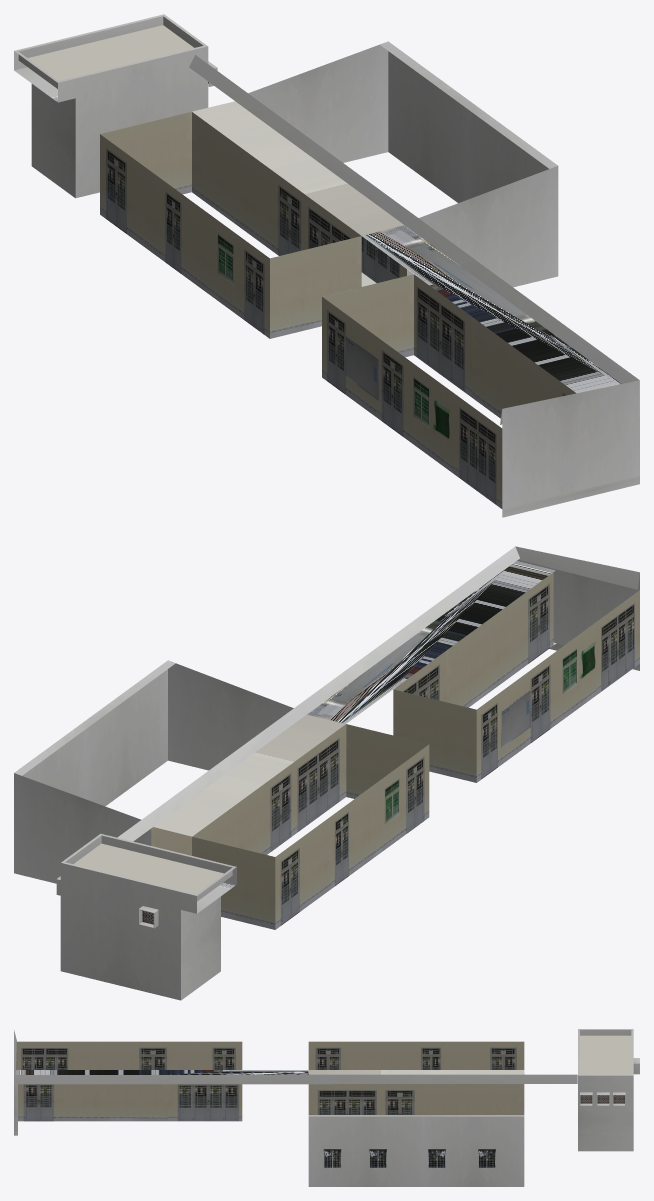
Rendered from part-polysurface455_mat_cua_van_phong_doan_0.glb.
The picture shows the model from 3 angles, top to bottom: view 1: azimuth 30°, elevation 25°; view 2: azimuth 150°, elevation 25°; view 3: azimuth 270°, elevation 25°; orthographic projection. The views are drawn at different scales.
Parts seen in each view (by area): view 1: polySurface455; view 2: polySurface455; view 3: polySurface455.
Boxes of the visible parts, box(x1,y1,x2,y2) form: polySurface455: box(14, 14, 639, 517); polySurface455: box(14, 546, 639, 1000); polySurface455: box(14, 1029, 639, 1186).
Bounding box in the file's own units: 42.14 × 16.91 × 124.
Materials: 1 (1 with a texture image).
